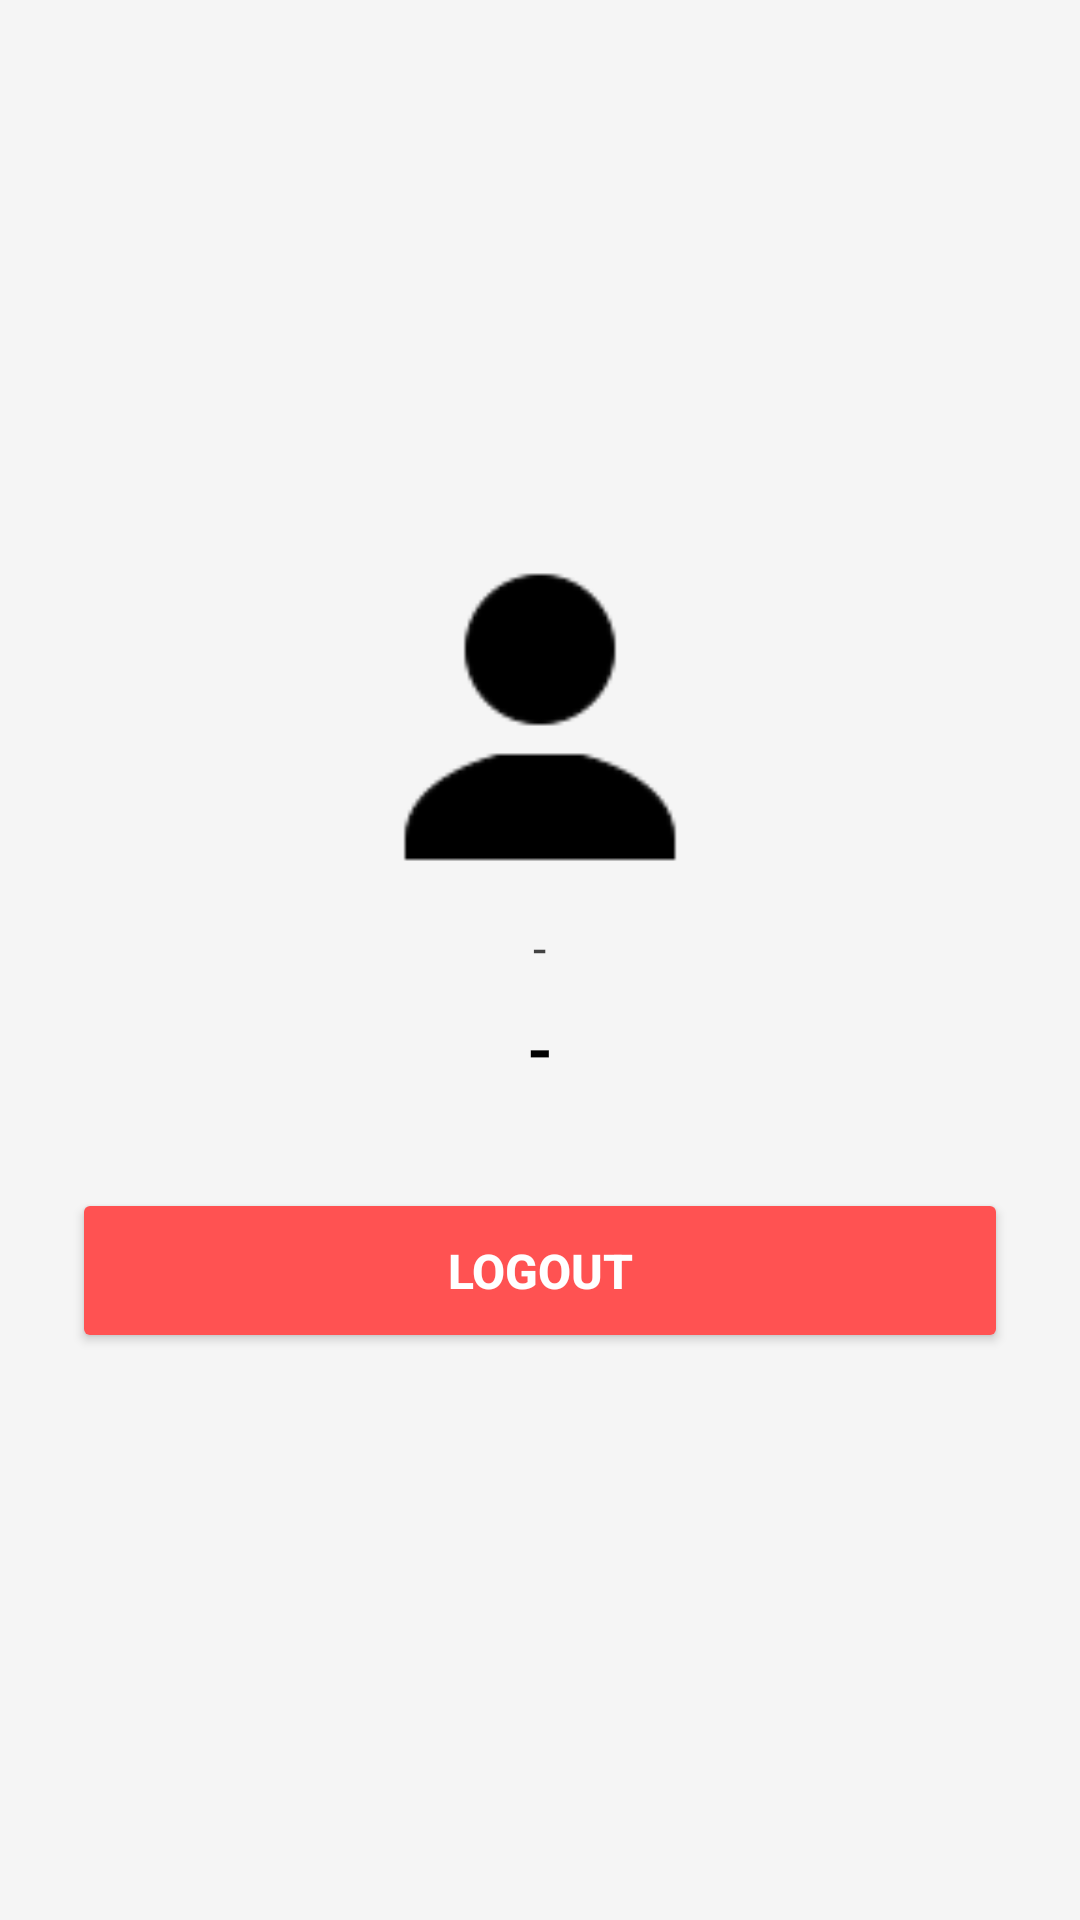

Named icons in this screenshot (1080w x 1920h) and their bounding boxes, bbox=(x1, y1, x2, y2):
profile: bbox=(404, 573, 676, 861)
